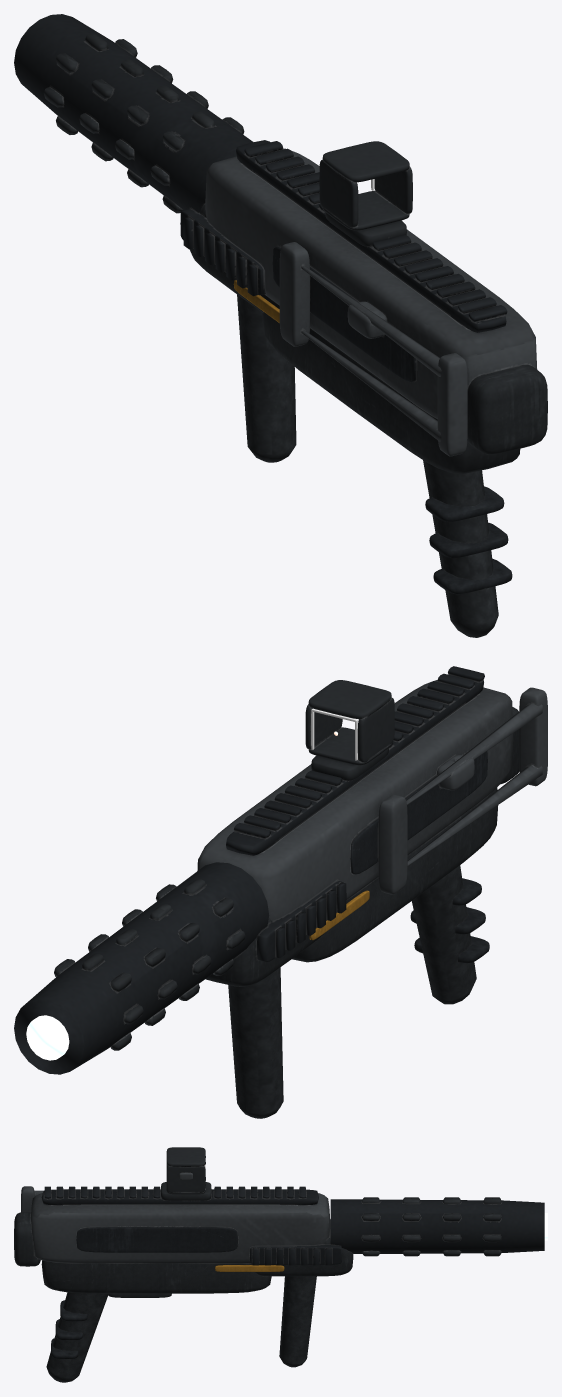
Rendered from kv5_body.glb.
The picture shows the model from 3 angles, top to bottom: view 1: azimuth 30°, elevation 25°; view 2: azimuth 150°, elevation 25°; view 3: azimuth 270°, elevation 25°; orthographic projection. The views are drawn at different scales.
Visible parts, largest first — view 1: kv5_body; view 2: kv5_body; view 3: kv5_body.
Boxes of the visible parts, x1,y1,x2,y2 form: kv5_body: (14, 14, 547, 637); kv5_body: (14, 666, 547, 1118); kv5_body: (14, 1147, 547, 1382).
Bounding box in the file's own units: 0.0691 × 0.2164 × 0.462.
Materials: 4 (1 with a texture image).
